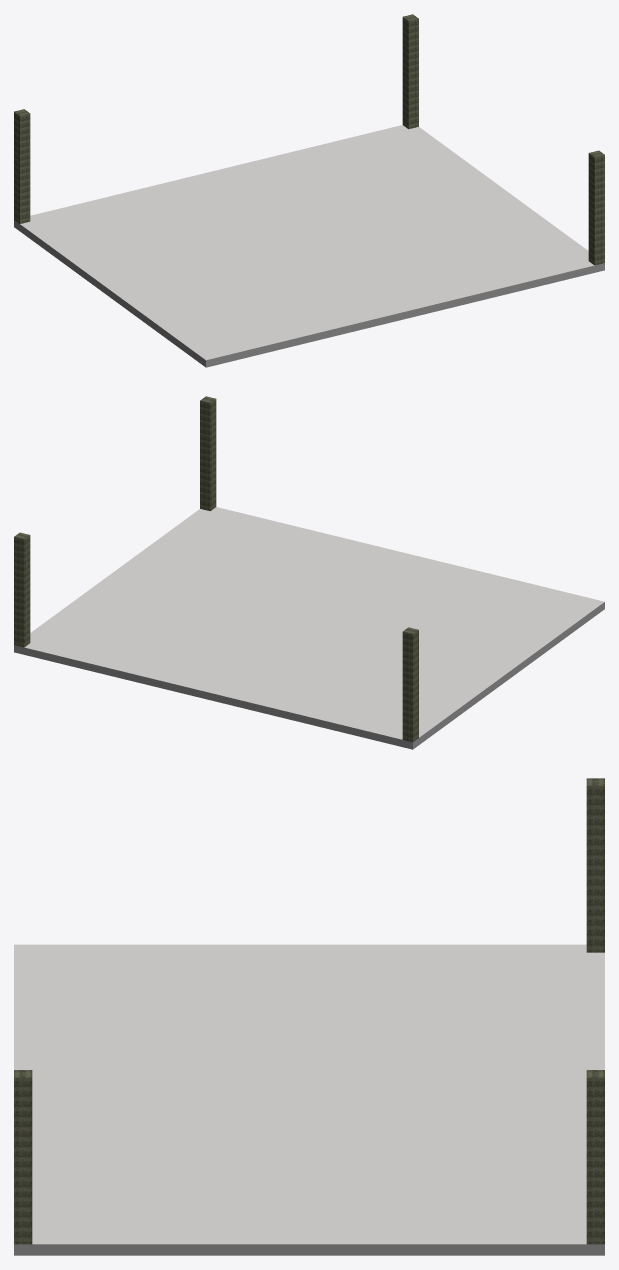
3 renders of one model, top to bottom at view 1: azimuth 30°, elevation 25°; view 2: azimuth 150°, elevation 25°; view 3: azimuth 270°, elevation 25°, orthographic. The views are drawn at different scales.
Visible parts, largest first — view 1: Floor Floor-Grnd-Bearing_65Scr-90Ins-125Conc-50SBld-150Hcore, Columns_Rectangular 300 x 300 mm [340360]001, Columns_Rectangular 300 x 300 mm [339867]001, Columns_Rectangular 300 x 300 mm [340123]001; view 2: Floor Floor-Grnd-Bearing_65Scr-90Ins-125Conc-50SBld-150Hcore, Columns_Rectangular 300 x 300 mm [339867]001, Columns_Rectangular 300 x 300 mm [340123]001, Columns_Rectangular 300 x 300 mm [340360]001; view 3: Floor Floor-Grnd-Bearing_65Scr-90Ins-125Conc-50SBld-150Hcore, Columns_Rectangular 300 x 300 mm [339867]001, Columns_Rectangular 300 x 300 mm [340123]001, Columns_Rectangular 300 x 300 mm [340360]001.
Part boxes in pixels (left/top/right/bottom): Floor Floor-Grnd-Bearing_65Scr-90Ins-125Conc-50SBld-150Hcore: left=14, top=125, right=604, bottom=367; Columns_Rectangular 300 x 300 mm [340360]001: left=588, top=150, right=604, bottom=265; Columns_Rectangular 300 x 300 mm [339867]001: left=14, top=109, right=30, bottom=223; Columns_Rectangular 300 x 300 mm [340123]001: left=402, top=14, right=418, bottom=129; Floor Floor-Grnd-Bearing_65Scr-90Ins-125Conc-50SBld-150Hcore: left=14, top=507, right=604, bottom=749; Columns_Rectangular 300 x 300 mm [339867]001: left=402, top=627, right=418, bottom=742; Columns_Rectangular 300 x 300 mm [340123]001: left=14, top=532, right=30, bottom=647; Columns_Rectangular 300 x 300 mm [340360]001: left=200, top=396, right=216, bottom=511; Floor Floor-Grnd-Bearing_65Scr-90Ins-125Conc-50SBld-150Hcore: left=14, top=944, right=604, bottom=1255; Columns_Rectangular 300 x 300 mm [339867]001: left=586, top=778, right=604, bottom=952; Columns_Rectangular 300 x 300 mm [340123]001: left=586, top=1070, right=604, bottom=1244; Columns_Rectangular 300 x 300 mm [340360]001: left=14, top=1070, right=32, bottom=1244.
Size of the model in its own units: 11.58 by 3.21 by 9.66.
Materials: 3 (1 with a texture image).
